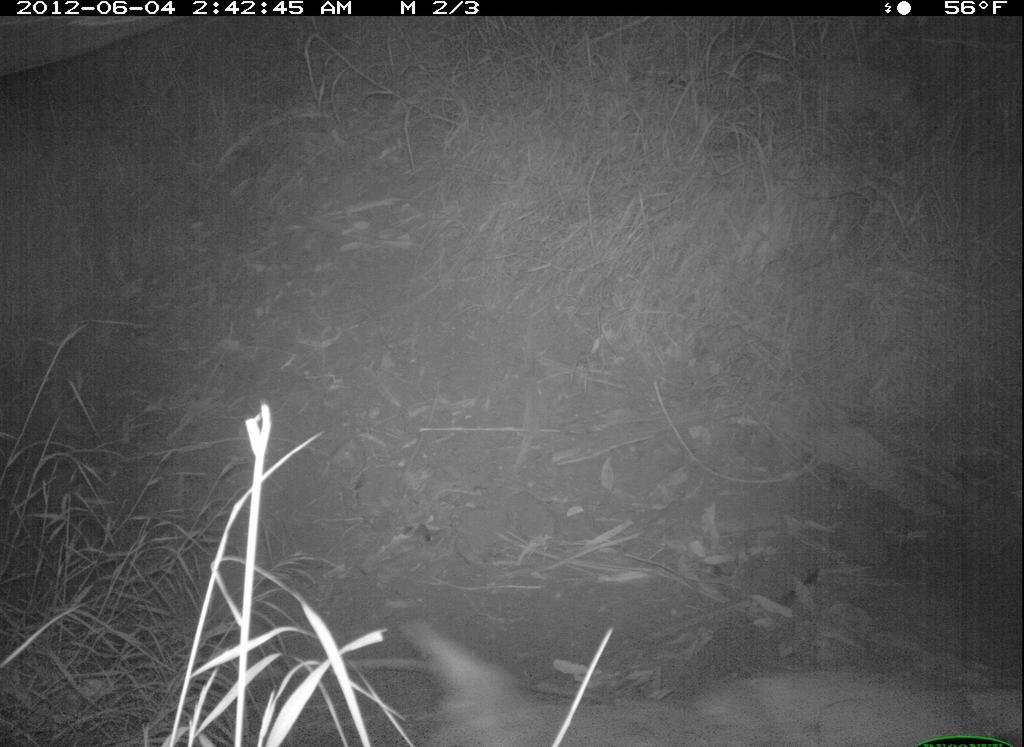coyote: (386, 609, 1023, 747)
